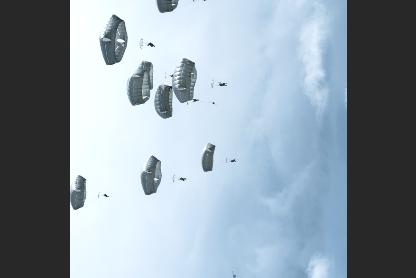Be200: (227, 270, 239, 277)
